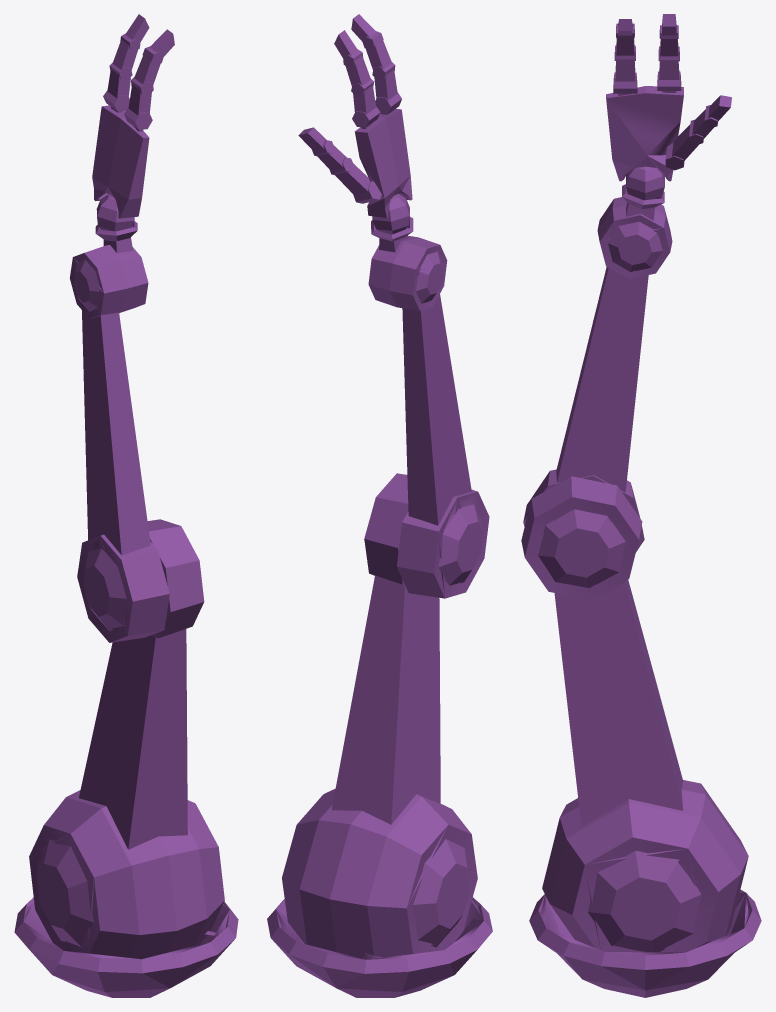
File: item_robot_arm_right_galaxy.glb
3 views of the same model, side by side, from view 1: azimuth 30°, elevation 25°; view 2: azimuth 150°, elevation 25°; view 3: azimuth 270°, elevation 25° (orthographic). The views are drawn at different scales.
Visible parts, largest first — view 1: Robot_Arm_Right; view 2: Robot_Arm_Right; view 3: Robot_Arm_Right.
Part boxes in pixels (x1=…): Robot_Arm_Right: x1=14, y1=14, x2=238, y2=997; Robot_Arm_Right: x1=267, y1=14, x2=492, y2=997; Robot_Arm_Right: x1=521, y1=14, x2=761, y2=997.
Size of the model in its own units: 0.2217 by 1.04 by 0.2292.
